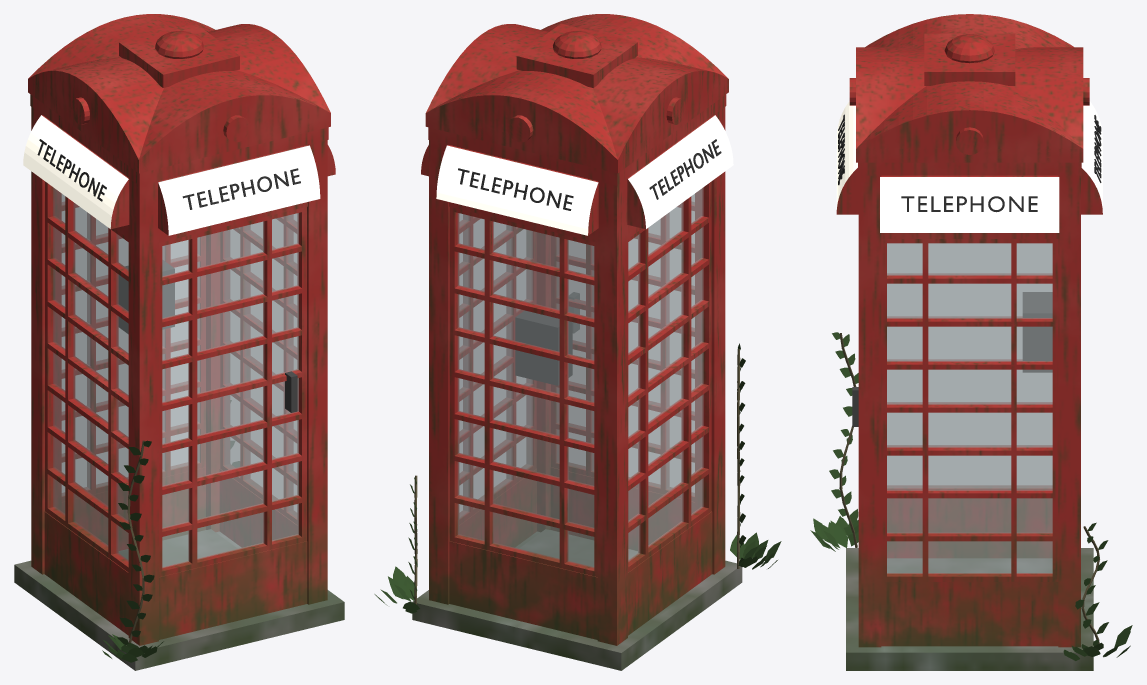
File: phone-booth.glb
3 views of the same model, side by side, from view 1: azimuth 30°, elevation 25°; view 2: azimuth 150°, elevation 25°; view 3: azimuth 270°, elevation 25° (orthographic). The views are drawn at different scales.
Visible parts, largest first — view 1: phone-booth; view 2: phone-booth; view 3: phone-booth.
Part boxes in pixels (x1=…): phone-booth: x1=14, y1=14, x2=344, y2=670; phone-booth: x1=374, y1=14, x2=781, y2=670; phone-booth: x1=810, y1=14, x2=1132, y2=670.
Bounding box in the file's own units: 1.29 × 2.54 × 1.28.
9 materials, 2 textured.
